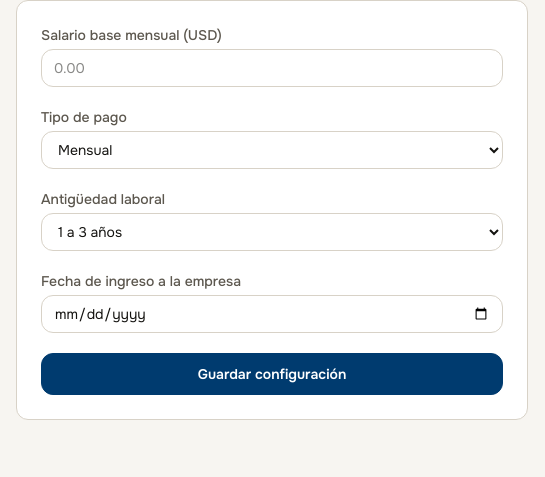
Test case: ConfigInicial › guarda configuracion valida y muestra mensaje de exito
Type "800" into the number field labelled "Salario base mensual (USD)" at (272, 68), box [41, 49, 503, 87]
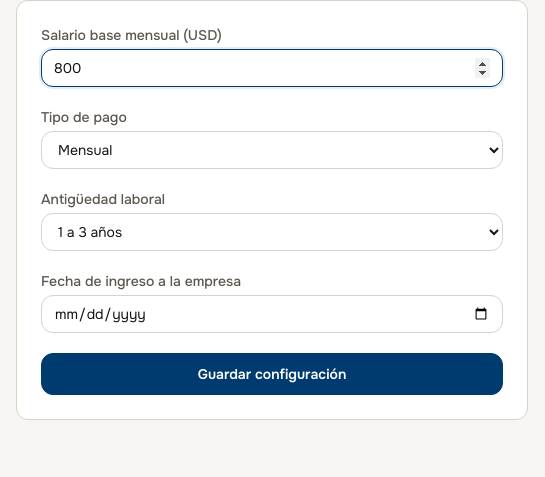
Type "2021-03-15" into the date field labelled "Fecha de ingreso a la empresa" at (272, 314), box [41, 295, 503, 333]
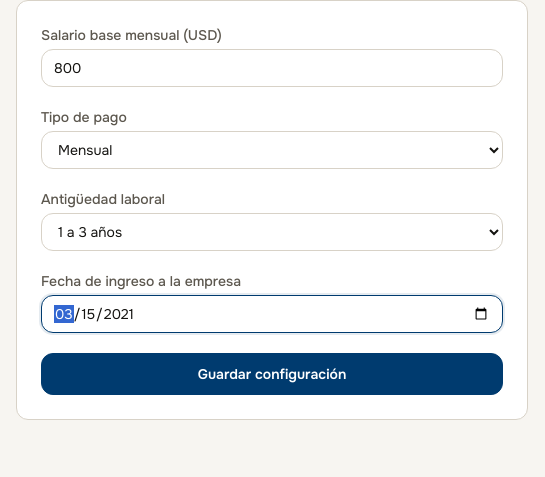
Click the button "Guardar configuración" at (272, 374), box [41, 353, 503, 395]
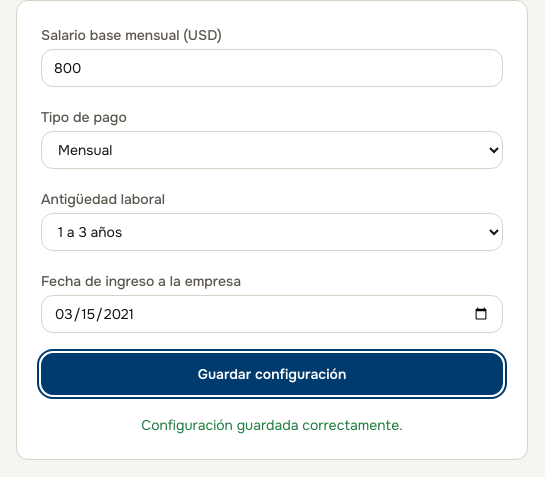
Check: the text "Configuración guardada correctamente." is shown, box [141, 416, 403, 434]
